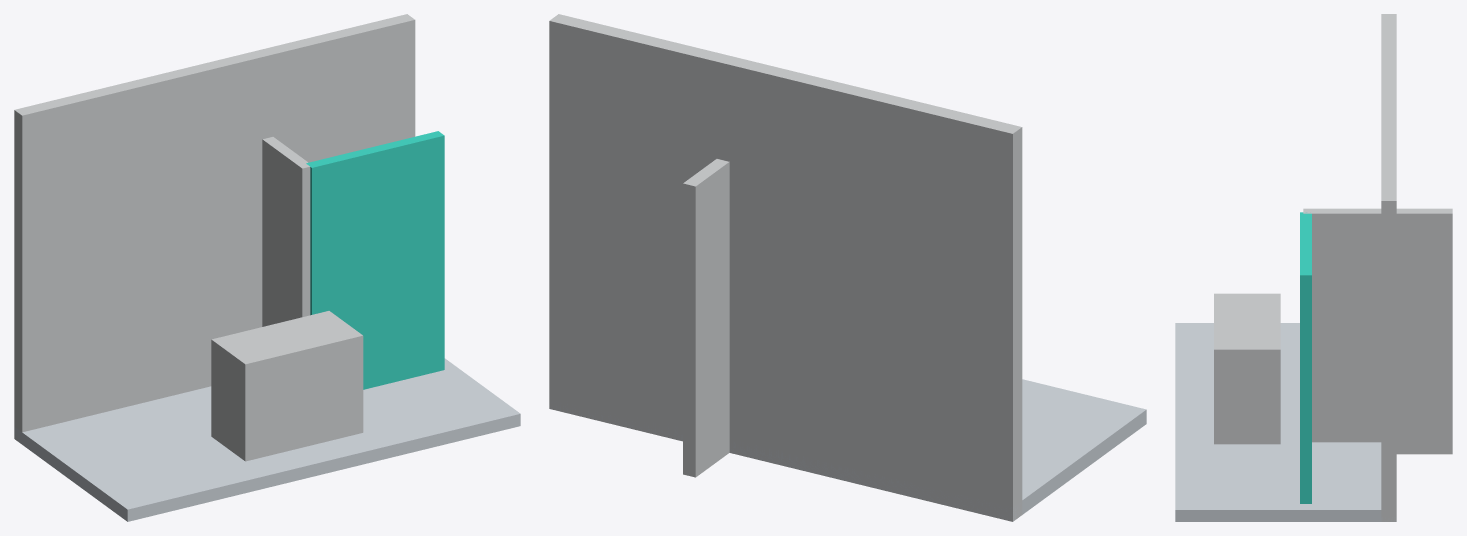
The picture shows the model from 3 angles, left to right: view 1: azimuth 30°, elevation 25°; view 2: azimuth 150°, elevation 25°; view 3: azimuth 270°, elevation 25°; orthographic projection. The views are drawn at different scales.
Visible parts, largest first — view 1: Exhibition Booth Concept; view 2: Exhibition Booth Concept; view 3: Exhibition Booth Concept.
Part boxes in pixels (left/top/right/bottom): Exhibition Booth Concept: left=14, top=14, right=520, bottom=521; Exhibition Booth Concept: left=549, top=14, right=1146, bottom=521; Exhibition Booth Concept: left=1175, top=14, right=1452, bottom=521.
Bounding box in the file's own units: 4 × 3.2 × 2.5.
